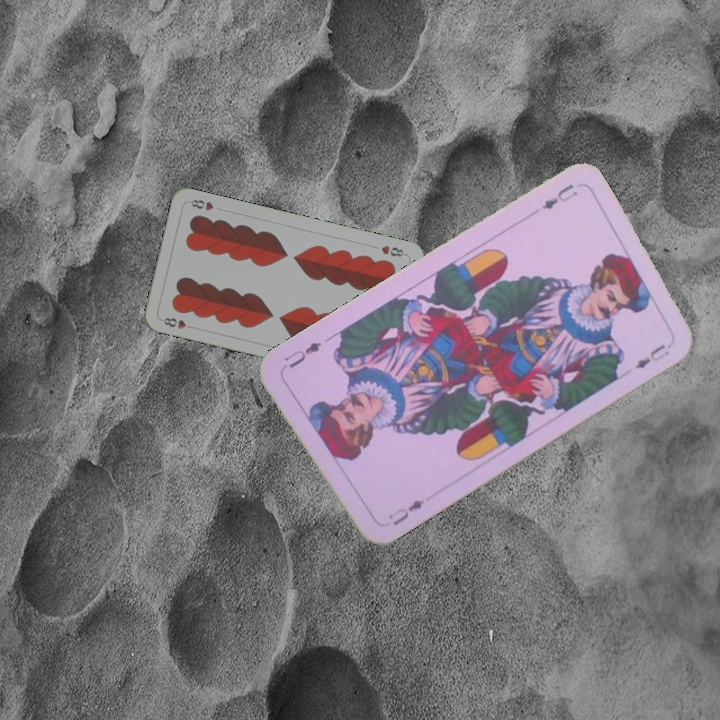EU: (537, 179, 581, 212), (384, 495, 427, 528)
H8: (160, 313, 197, 331), (377, 241, 409, 259)
